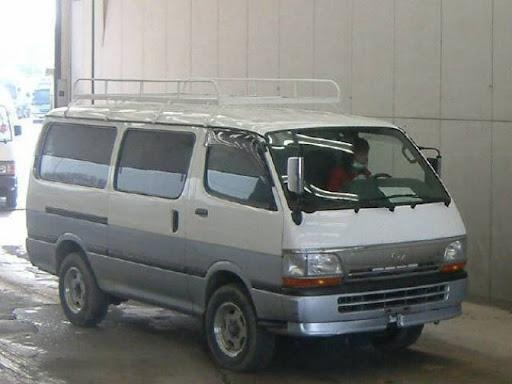van: (20, 86, 468, 355)
